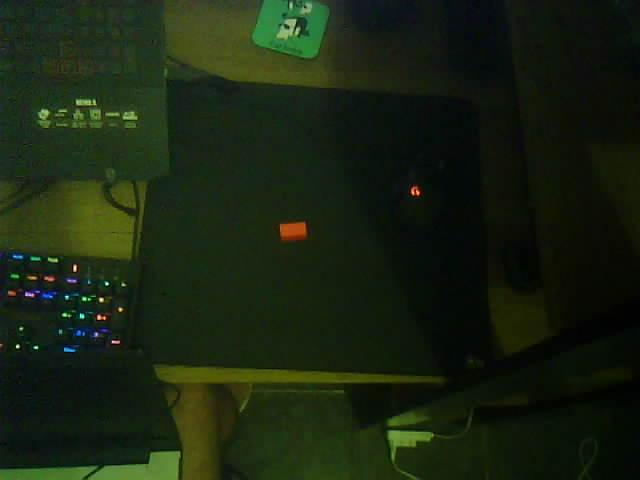lego: (278, 220, 308, 241)
